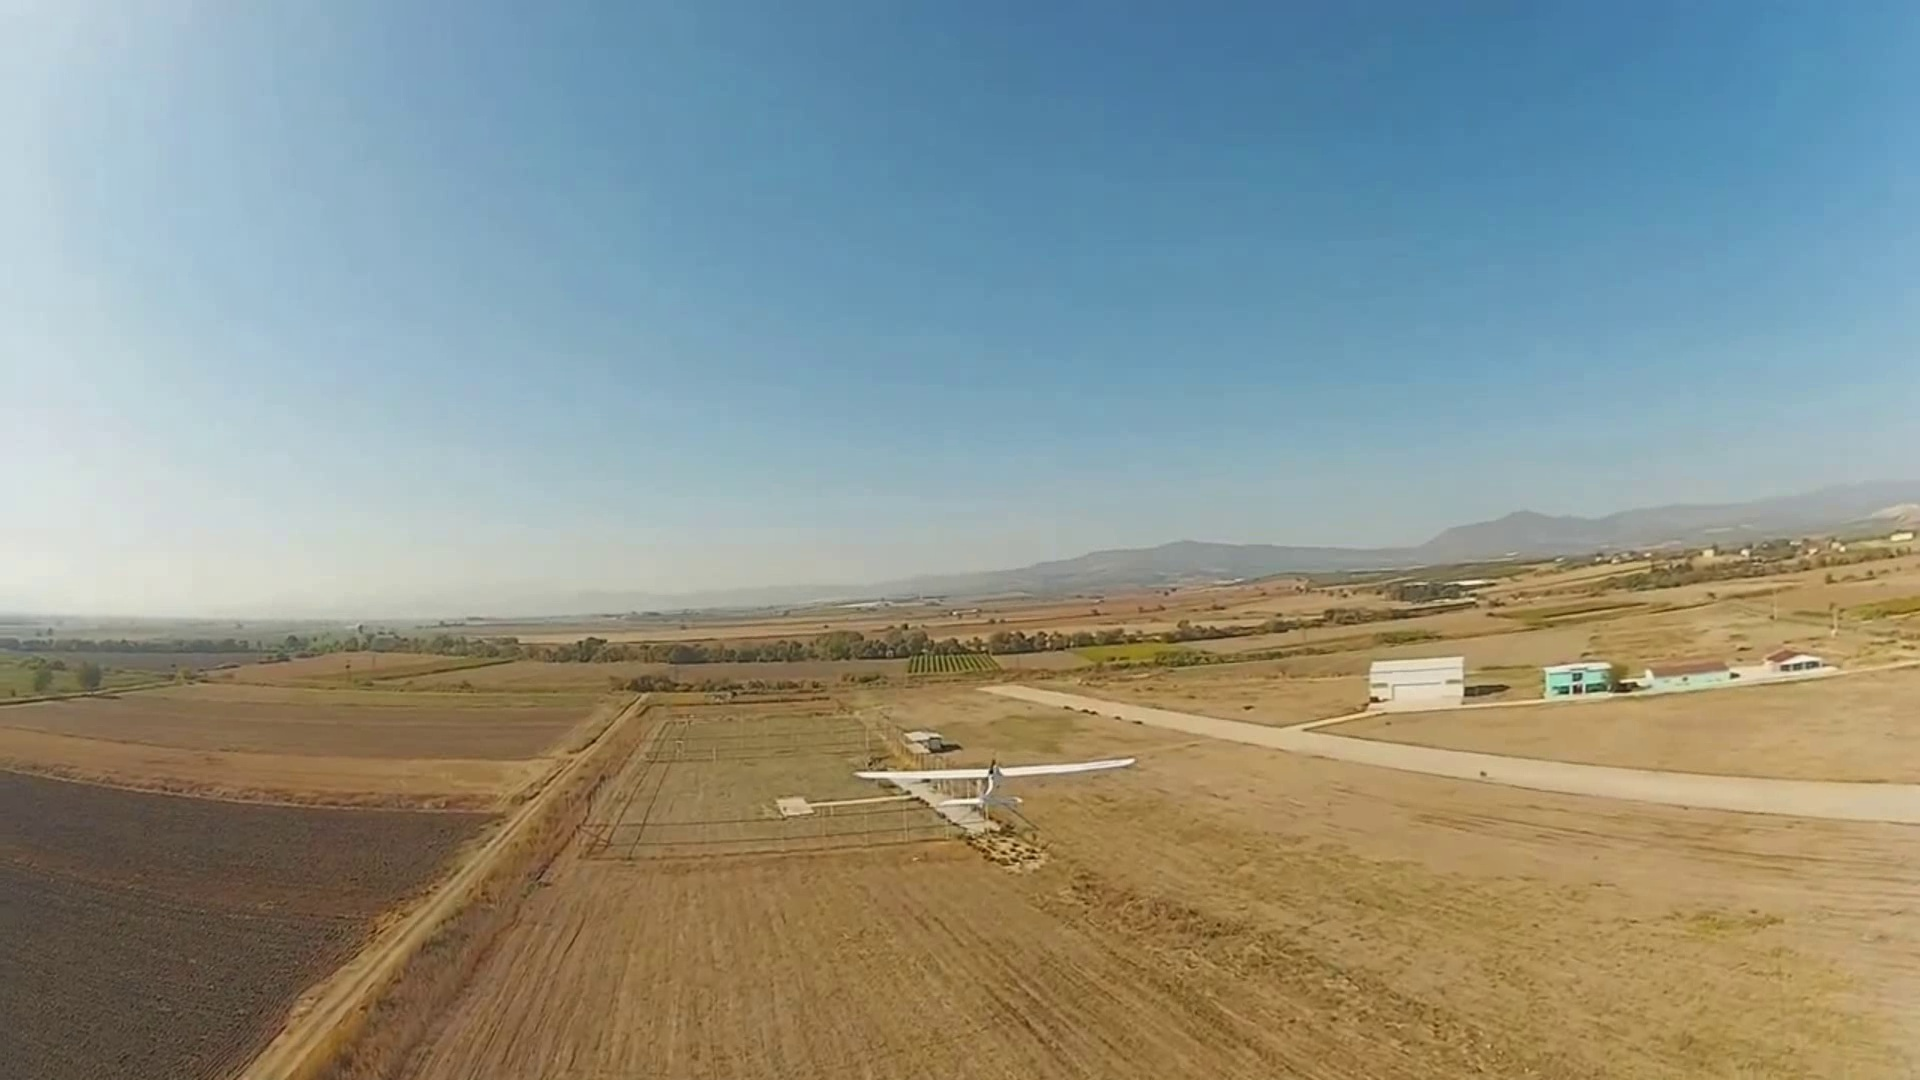airplane: (850, 732, 1140, 859)
